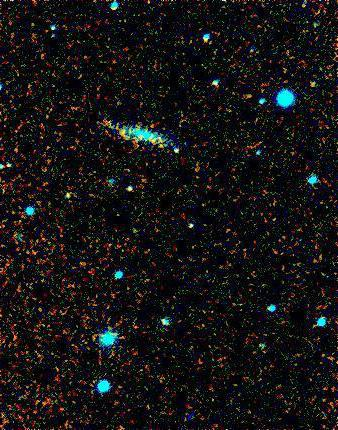star: (108, 115, 138, 145)
